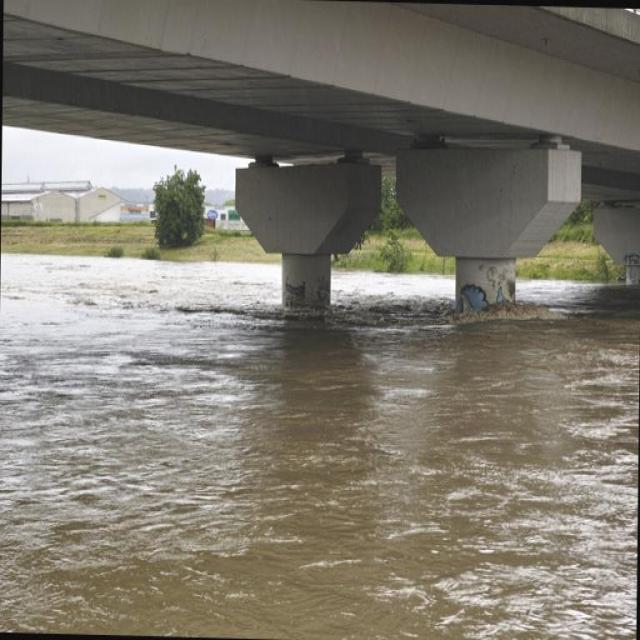flood: (0, 238, 639, 639)
